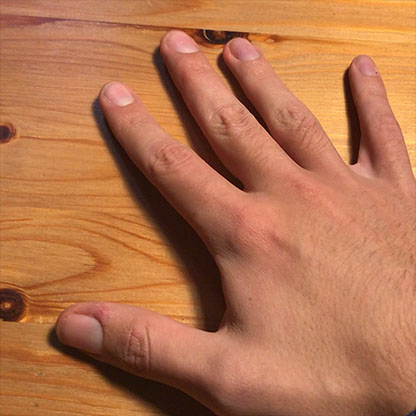fingertip: (44, 284, 116, 365), (155, 25, 206, 67), (95, 72, 140, 115), (222, 31, 267, 73), (349, 45, 383, 88)
